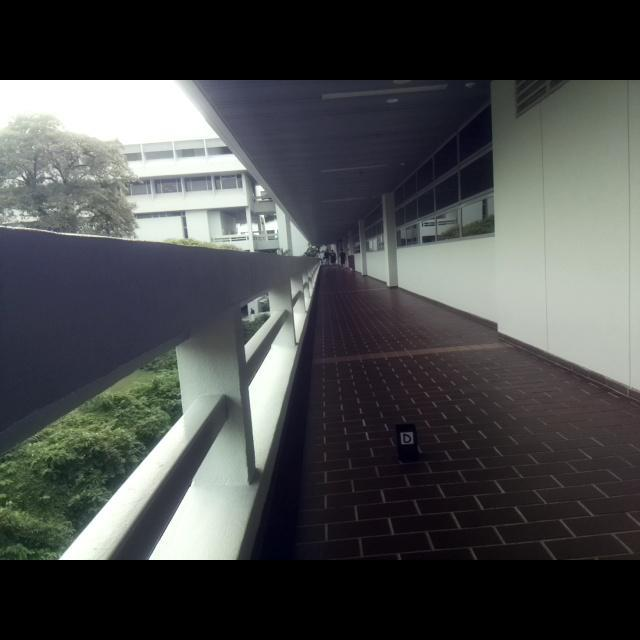D: (402, 433, 412, 444)
